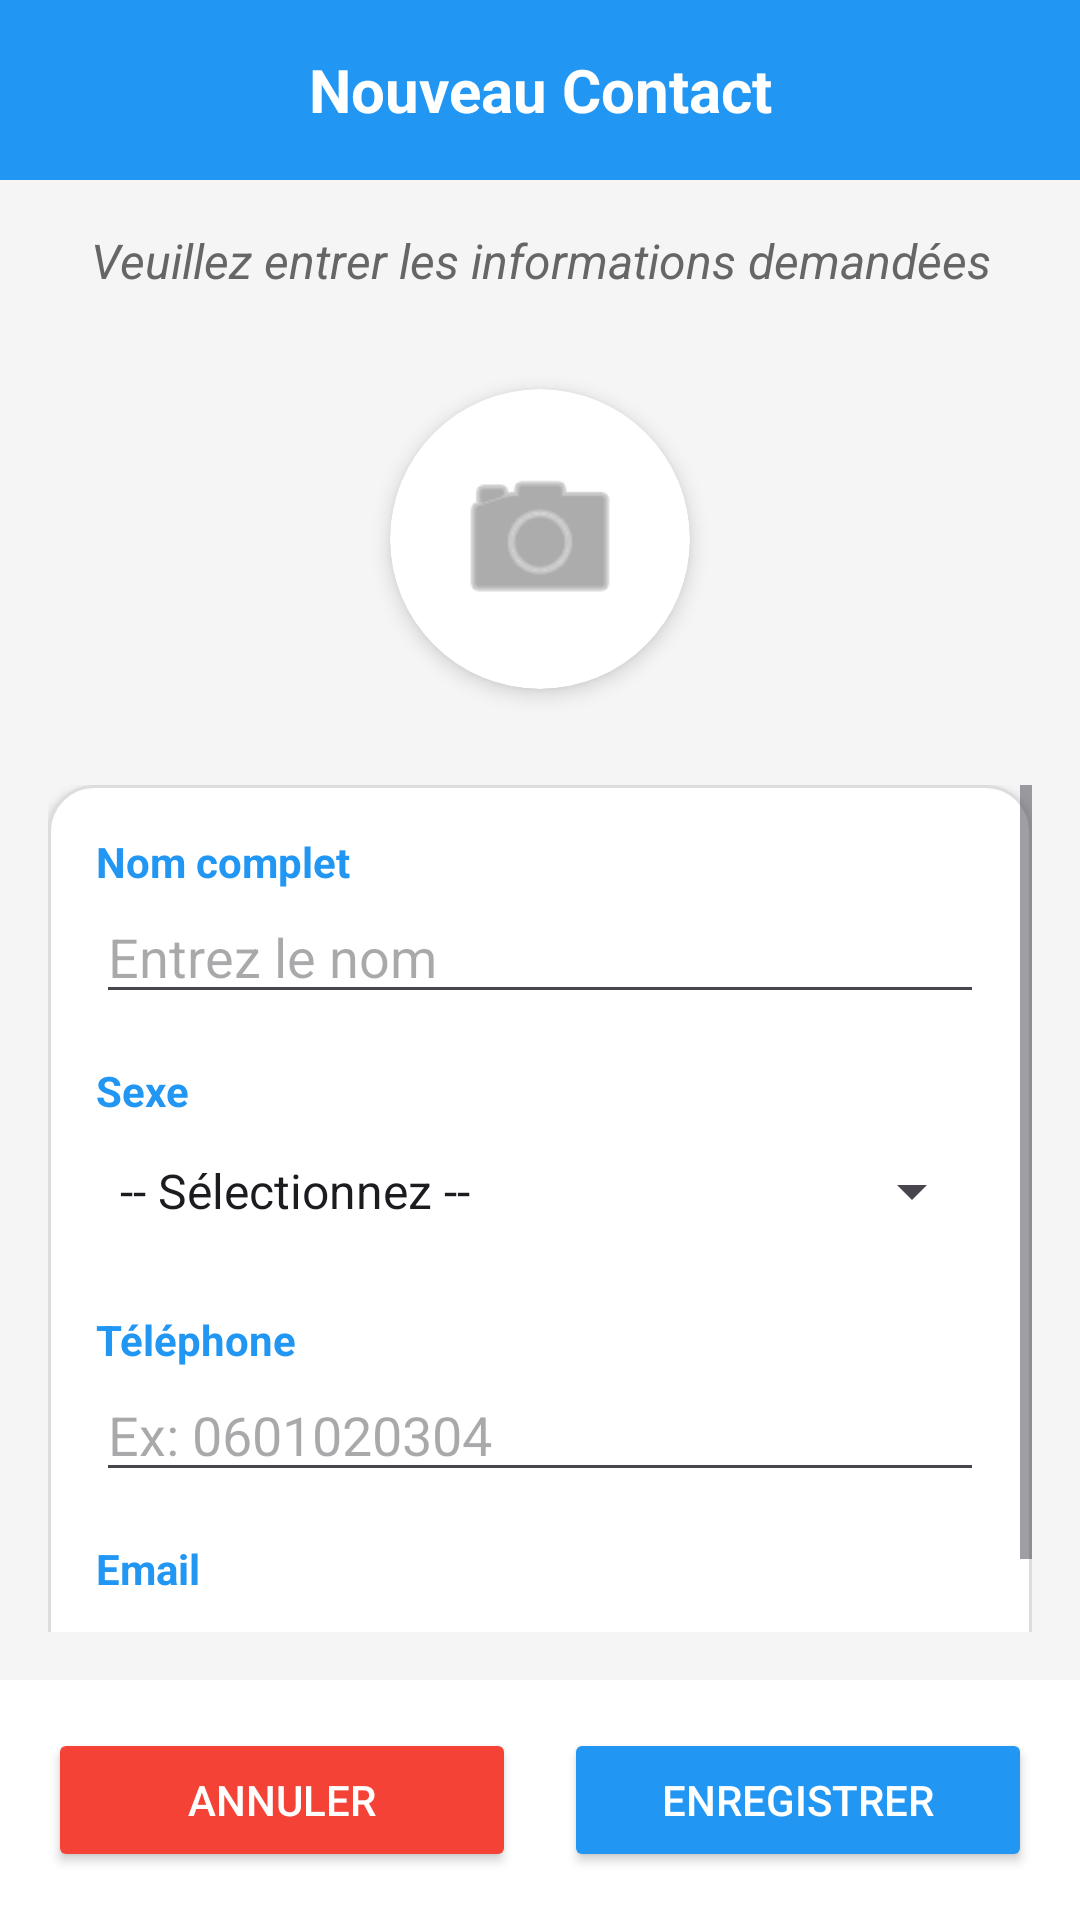

Where icons sit on this 1080*1920 app screen, as (x1, y1, x2, y2):
camera: (390, 389, 690, 689)
